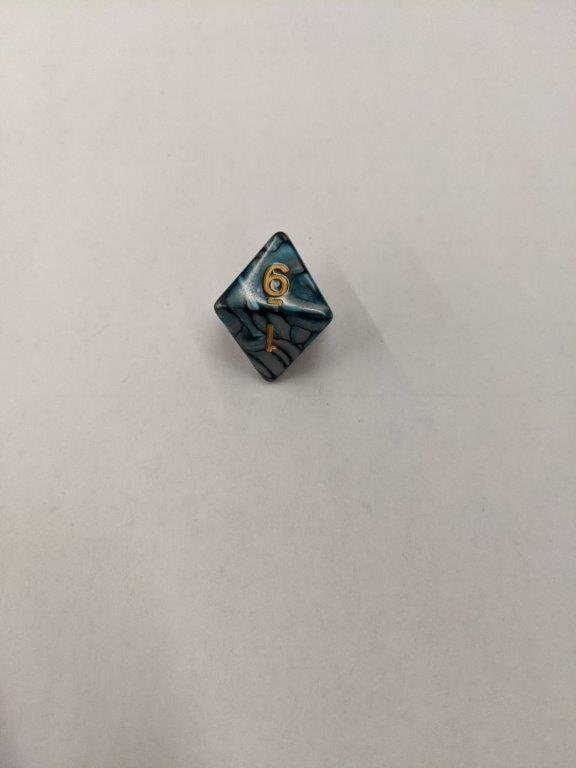d8-6: (214, 228, 336, 390)
